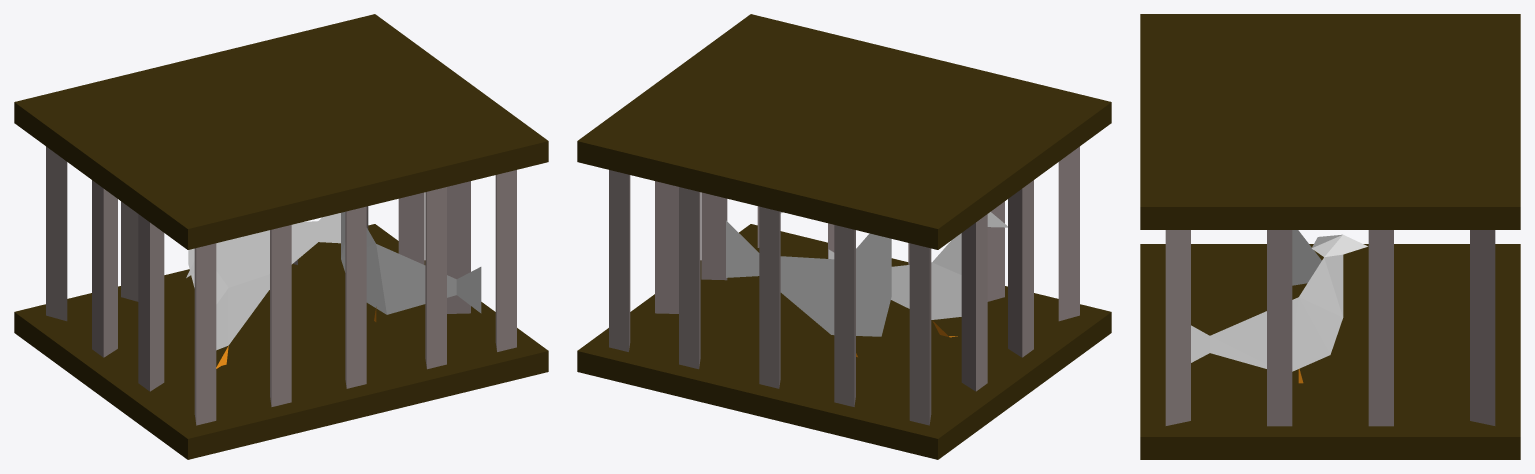
File: inv_pigeon_cage_1.obj
The picture shows the model from 3 angles, left to right: view 1: azimuth 30°, elevation 25°; view 2: azimuth 150°, elevation 25°; view 3: azimuth 270°, elevation 25°; orthographic projection. The views are drawn at different scales.
Size of the model in its own units: 0.5625 by 0.3438 by 0.4688.
